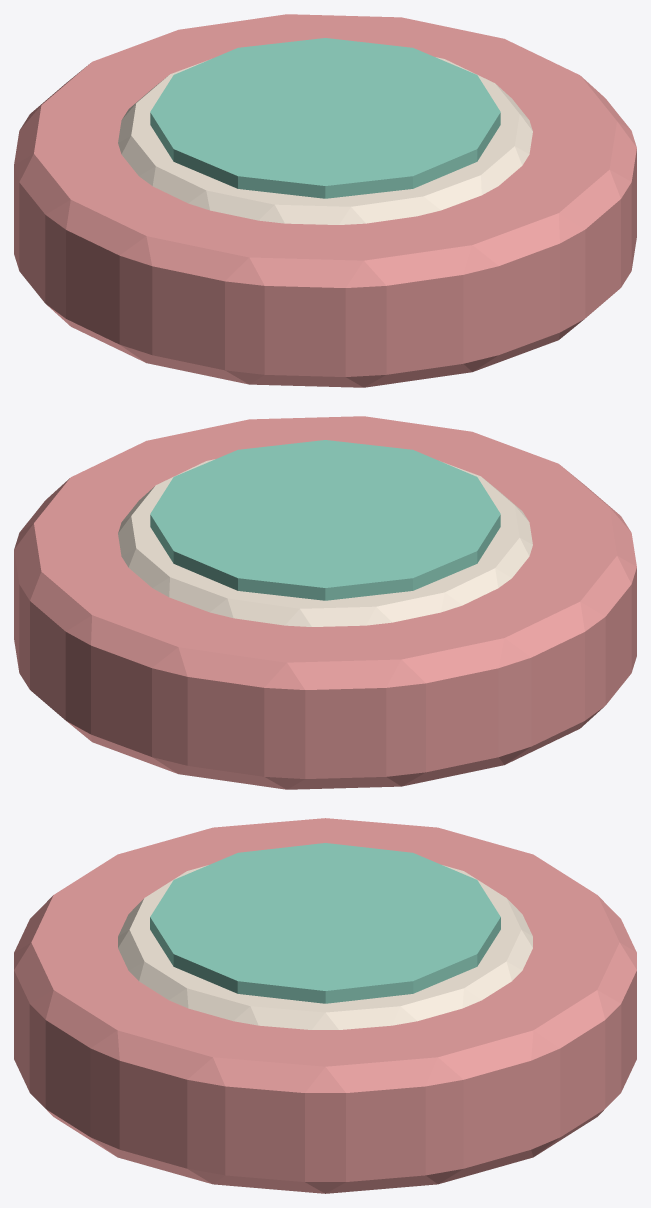
The model's file is CatCafe_Furniture_Cushion.glb.
The picture shows the model from 3 angles, top to bottom: view 1: azimuth 30°, elevation 25°; view 2: azimuth 150°, elevation 25°; view 3: azimuth 270°, elevation 25°; orthographic projection.
Parts seen in each view (by area): view 1: CatCafe_Furniture_Cushion; view 2: CatCafe_Furniture_Cushion; view 3: CatCafe_Furniture_Cushion.
Part boxes in pixels (x1,y1,x2,y2): CatCafe_Furniture_Cushion: (14,14,636,387); CatCafe_Furniture_Cushion: (14,416,636,789); CatCafe_Furniture_Cushion: (14,818,636,1193).
Size of the model in its own units: 1.78 by 0.48 by 1.78.
1 material, 1 textured.
